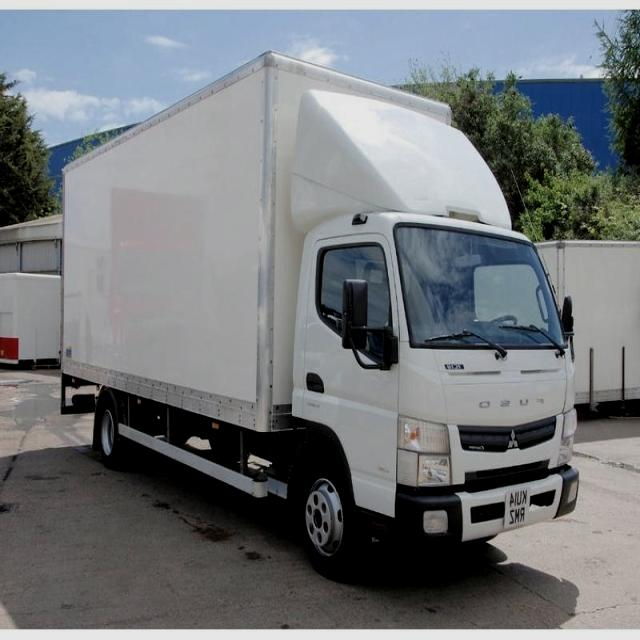truck: (59, 52, 578, 575)
